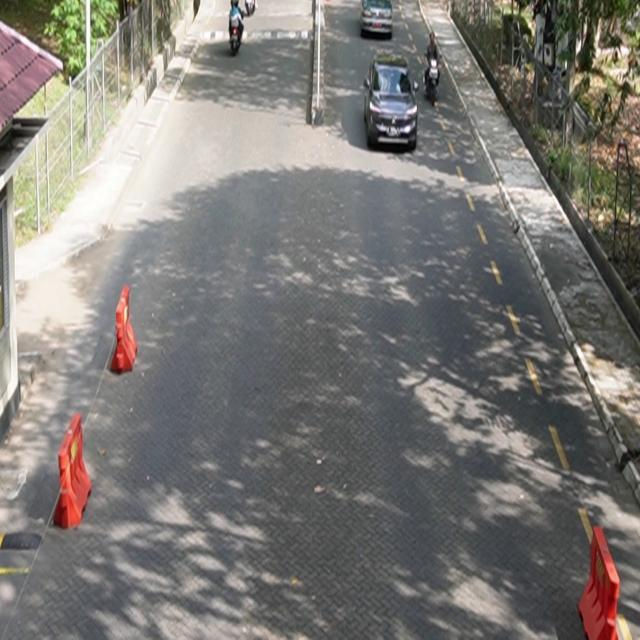car: (364, 52, 420, 151), (361, 1, 394, 40)
